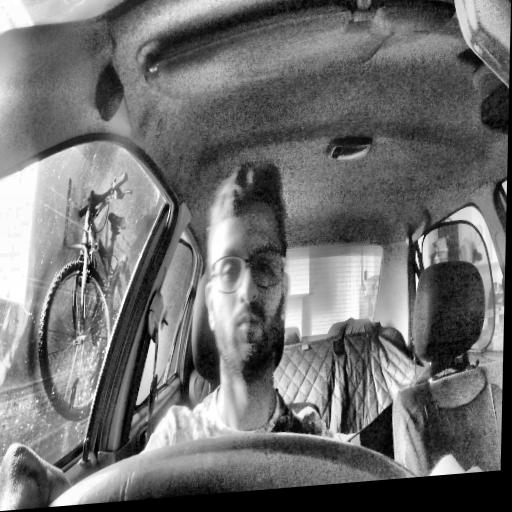awake: (201, 159, 292, 387)
